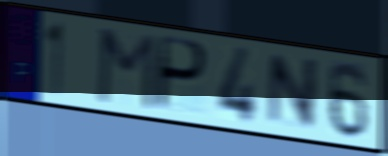1: (43, 18, 70, 101)
4: (214, 44, 259, 126)
6: (326, 60, 370, 141)
M: (94, 26, 158, 113)
N: (265, 52, 321, 132)
P: (153, 33, 210, 115)
